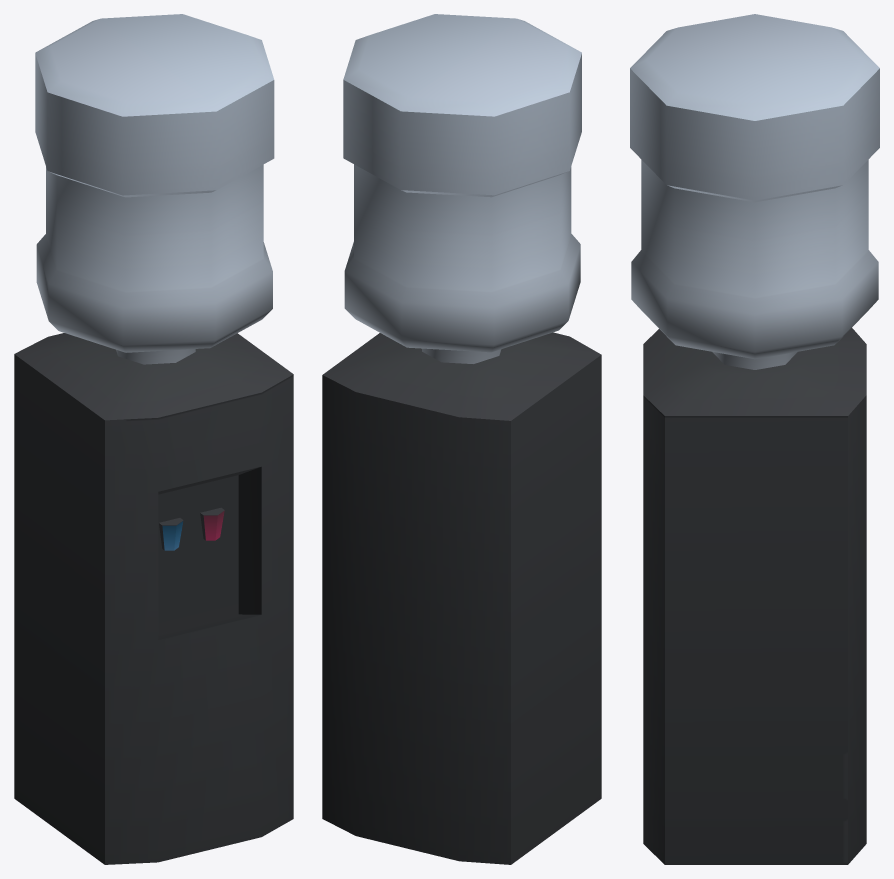
Rendered from Water Dispenser.fbx.
The picture shows the model from 3 angles, left to right: view 1: azimuth 30°, elevation 25°; view 2: azimuth 150°, elevation 25°; view 3: azimuth 270°, elevation 25°; orthographic projection.
Parts seen in each view (by area): view 1: Water dispenser; view 2: Water dispenser; view 3: Water dispenser.
Boxes of the visible parts, x1,y1,x2,y2 form: Water dispenser: [14, 14, 293, 864]; Water dispenser: [322, 14, 601, 864]; Water dispenser: [630, 14, 879, 864].
Size of the model in its own units: 0.7191 by 2.41 by 0.7191.
Materials: 2 (2 with a texture image).
